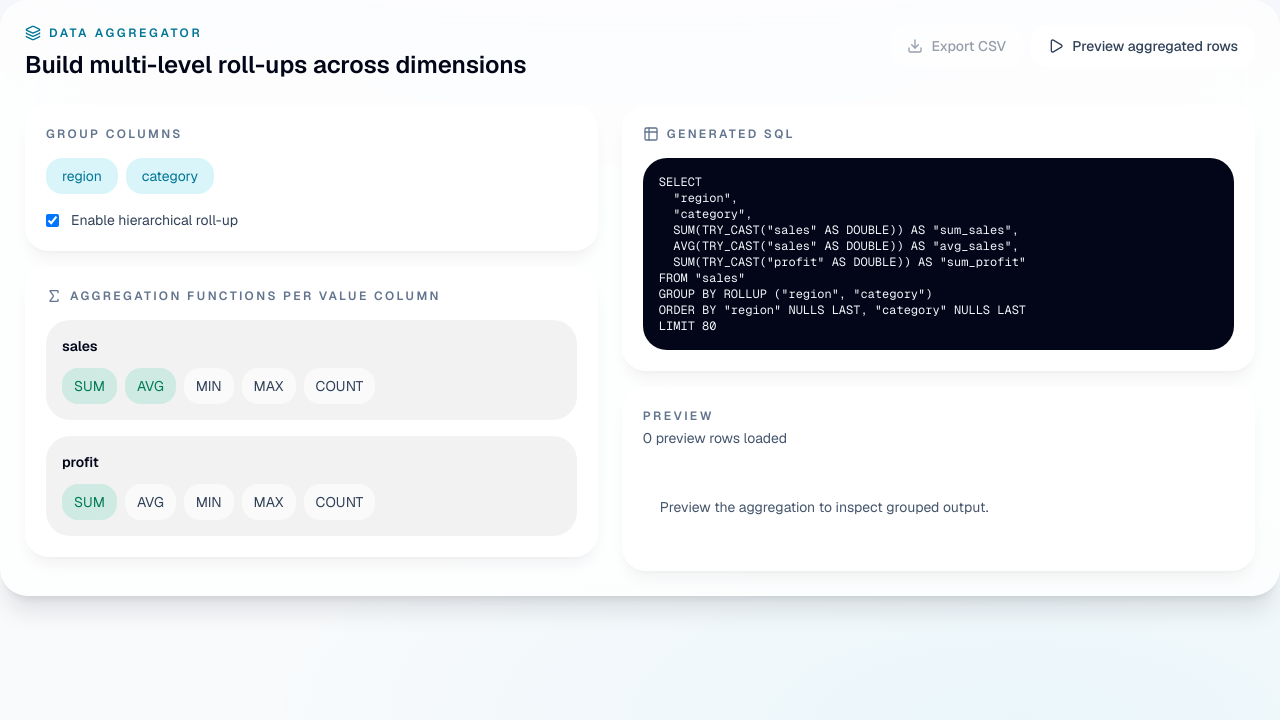
Test: DataAggregator › previews roll-up results with DuckDB
Click the button "Preview aggregated rows".
click(1143, 46)  # box [1031, 25, 1255, 67]
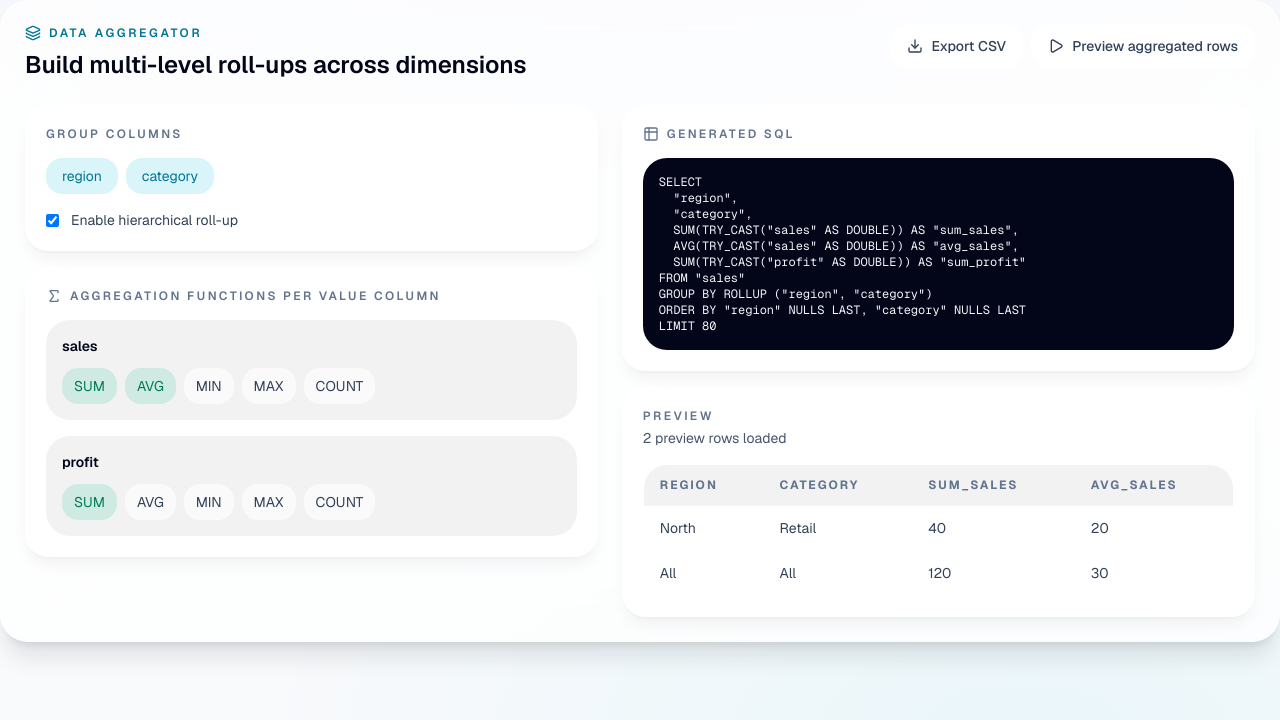
Expected: the text "Retail" is shown, [764, 506, 912, 550]
